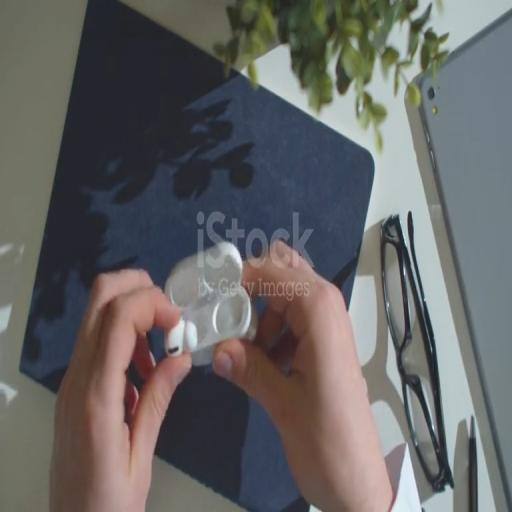earphone: (162, 250, 252, 367)
